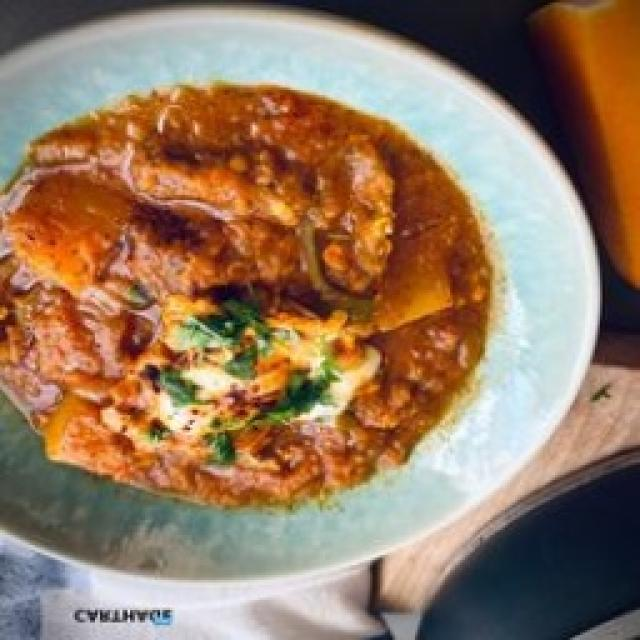Chakchouka: (0, 87, 492, 509)
